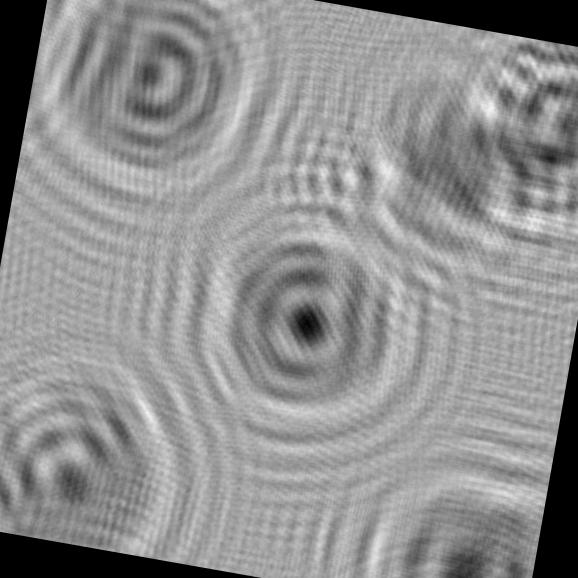D: (10, 0, 314, 250)
F: (339, 434, 551, 578)
G: (397, 22, 578, 286)
P: (138, 149, 464, 497)
U: (0, 305, 235, 566)
Y: (278, 33, 568, 324)
